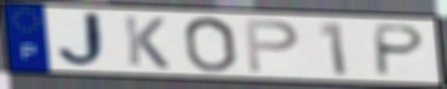1: (317, 21, 350, 78)
J: (56, 11, 114, 70)
K: (121, 14, 172, 71)
O: (181, 15, 240, 74)
P: (242, 17, 302, 74), (373, 22, 429, 78)
